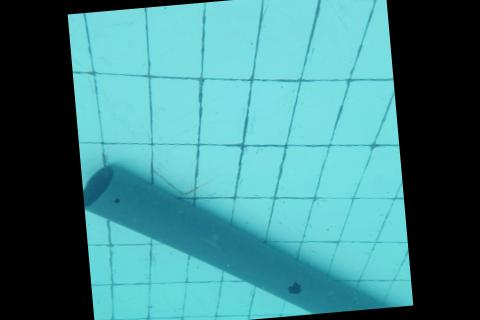kebocoran: (285, 281, 302, 295), (112, 198, 120, 204)
